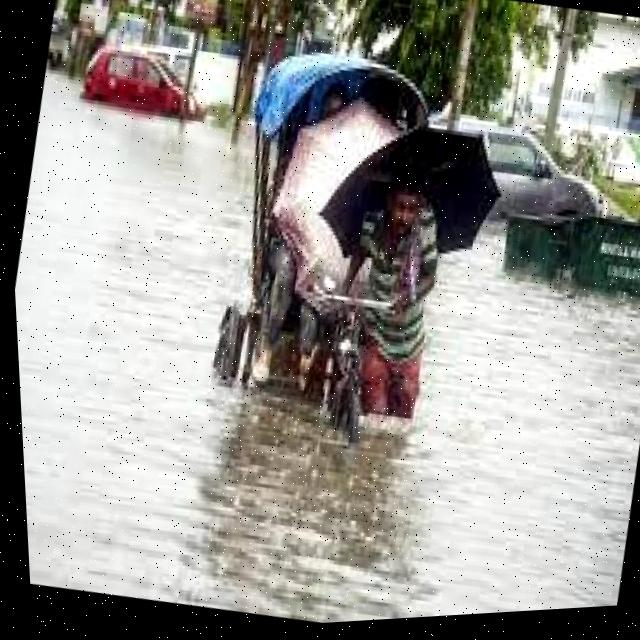civilian: (321, 160, 474, 430)
